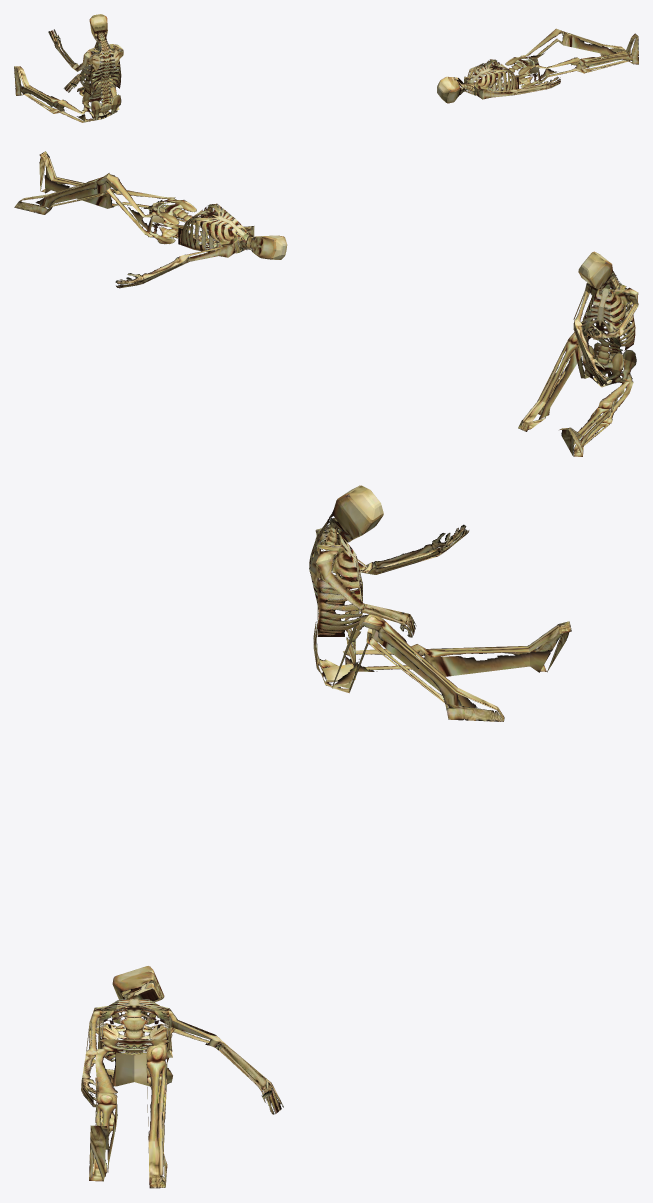
Rendered from skeleton_prison.fbx.
3 views of the same model, one above another, from view 1: azimuth 30°, elevation 25°; view 2: azimuth 150°, elevation 25°; view 3: azimuth 270°, elevation 25° (orthographic). The views are drawn at different scales.
Parts seen in each view (by area): view 1: skeleton.002, skeleton2.001; view 2: skeleton2.001, skeleton.002; view 3: skeleton2.001, skeleton.002.
Part boxes in pixels (<box>): skeleton.002: <box>437,28,638,103</box>; skeleton2.001: <box>14,14,123,122</box>; skeleton2.001: <box>518,251,638,456</box>; skeleton.002: <box>14,151,287,288</box>; skeleton2.001: <box>309,485,571,721</box>; skeleton.002: <box>81,966,283,1188</box>.
Bounding box in the file's own units: 1351 × 329 × 559.
